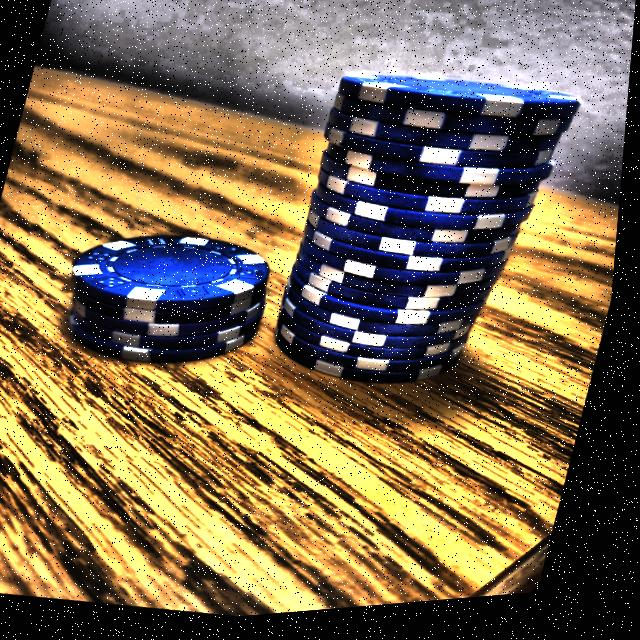Chip: (261, 46, 593, 425), (45, 193, 295, 395)
